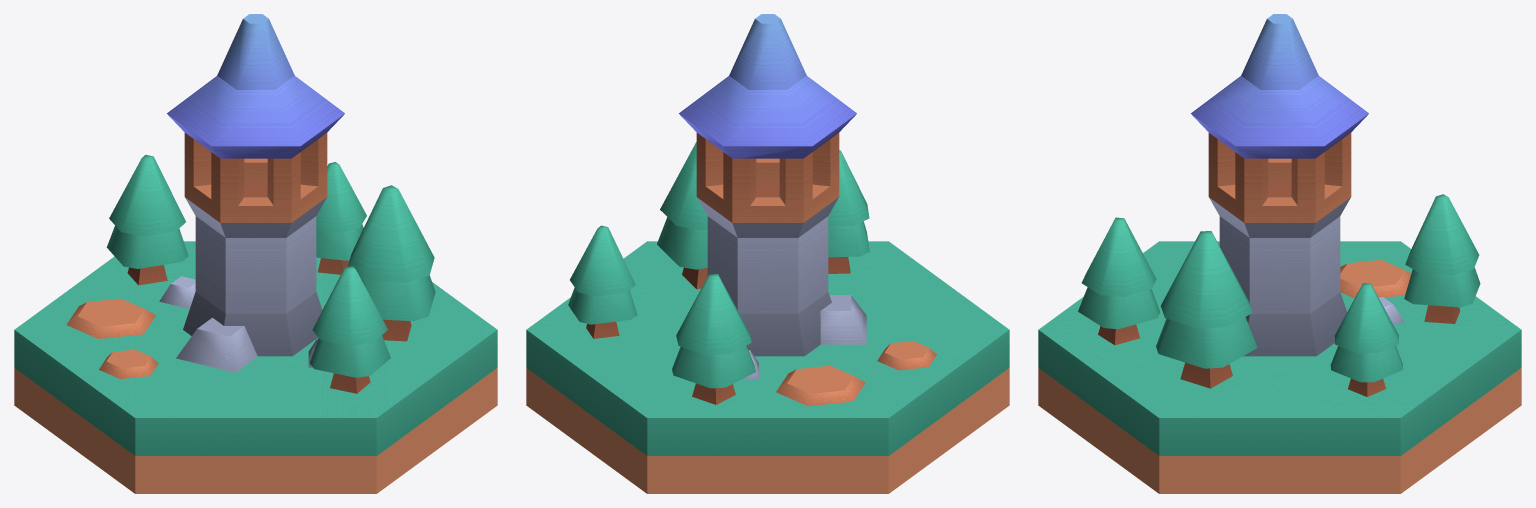
File: building-tower.glb
The picture shows the model from 3 angles, left to right: view 1: azimuth 30°, elevation 25°; view 2: azimuth 150°, elevation 25°; view 3: azimuth 270°, elevation 25°; orthographic projection.
Parts seen in each view (by area): view 1: building-tower; view 2: building-tower; view 3: building-tower.
Part boxes in pixels (left/top/right/bottom): building-tower: left=14, top=14, right=497, bottom=493; building-tower: left=526, top=14, right=1009, bottom=493; building-tower: left=1038, top=14, right=1521, bottom=493.
Bounding box in the file's own units: 10 × 10.2 × 11.55.
Materials: 1 (1 with a texture image).
